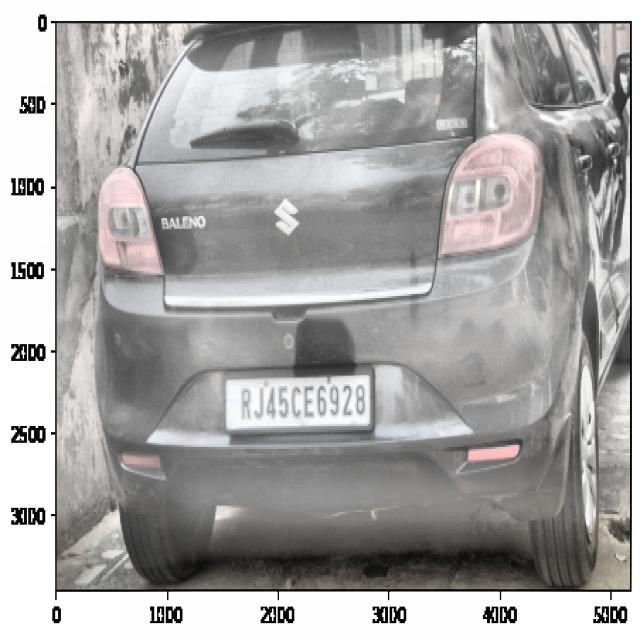license_plate: (238, 378, 369, 427)
